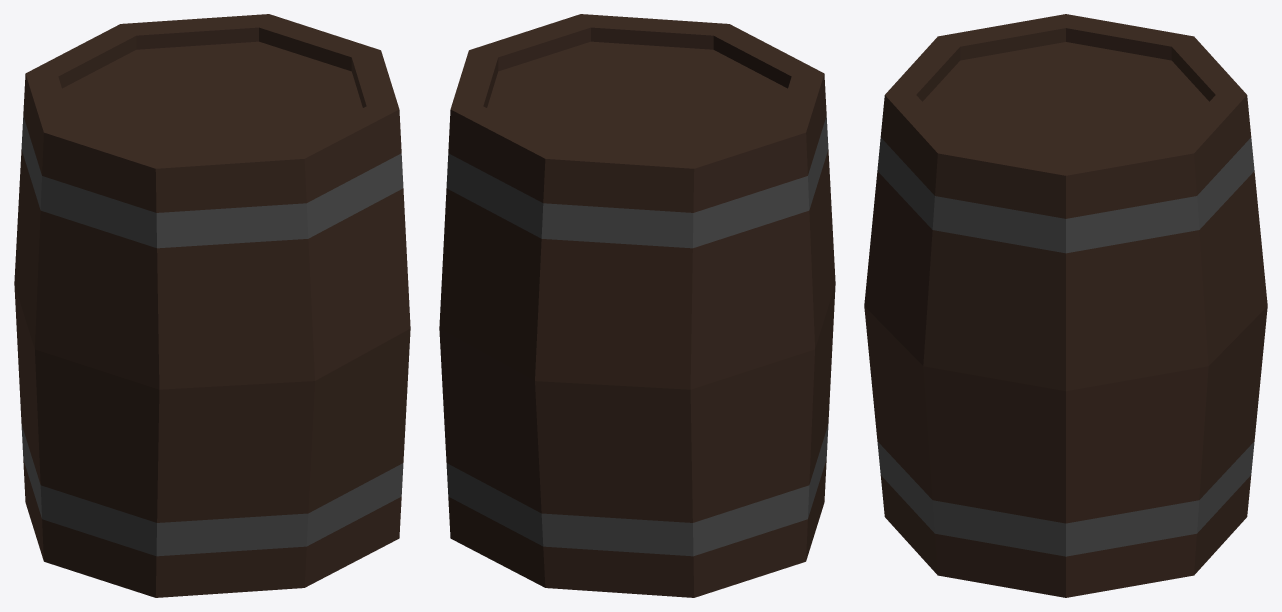
File: envi_barrel.fbx
The picture shows the model from 3 angles, left to right: view 1: azimuth 30°, elevation 25°; view 2: azimuth 150°, elevation 25°; view 3: azimuth 270°, elevation 25°; orthographic projection.
Parts seen in each view (by area): view 1: pCylinder14; view 2: pCylinder14; view 3: pCylinder14.
Boxes of the visible parts, x1,y1,x2,y2 form: pCylinder14: (14,14,410,597); pCylinder14: (439,14,835,597); pCylinder14: (864,14,1267,597).
Size of the model in its own units: 1.63 by 1.88 by 1.63.
